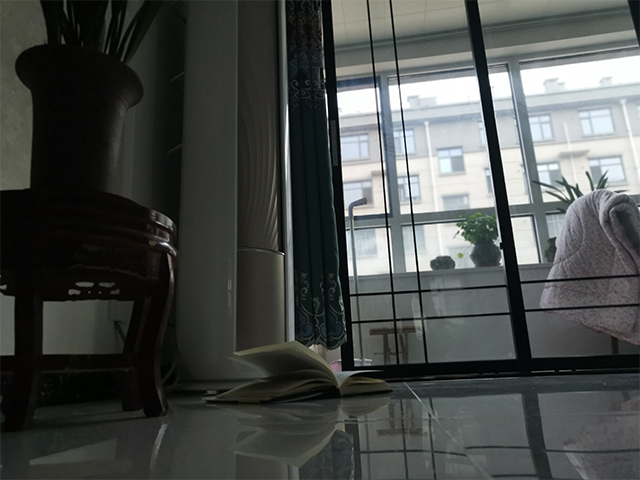book: (203, 339, 395, 406)
curtain: (282, 1, 351, 353)
stool: (1, 186, 181, 434), (368, 324, 420, 366)
wire: (118, 321, 186, 399)
